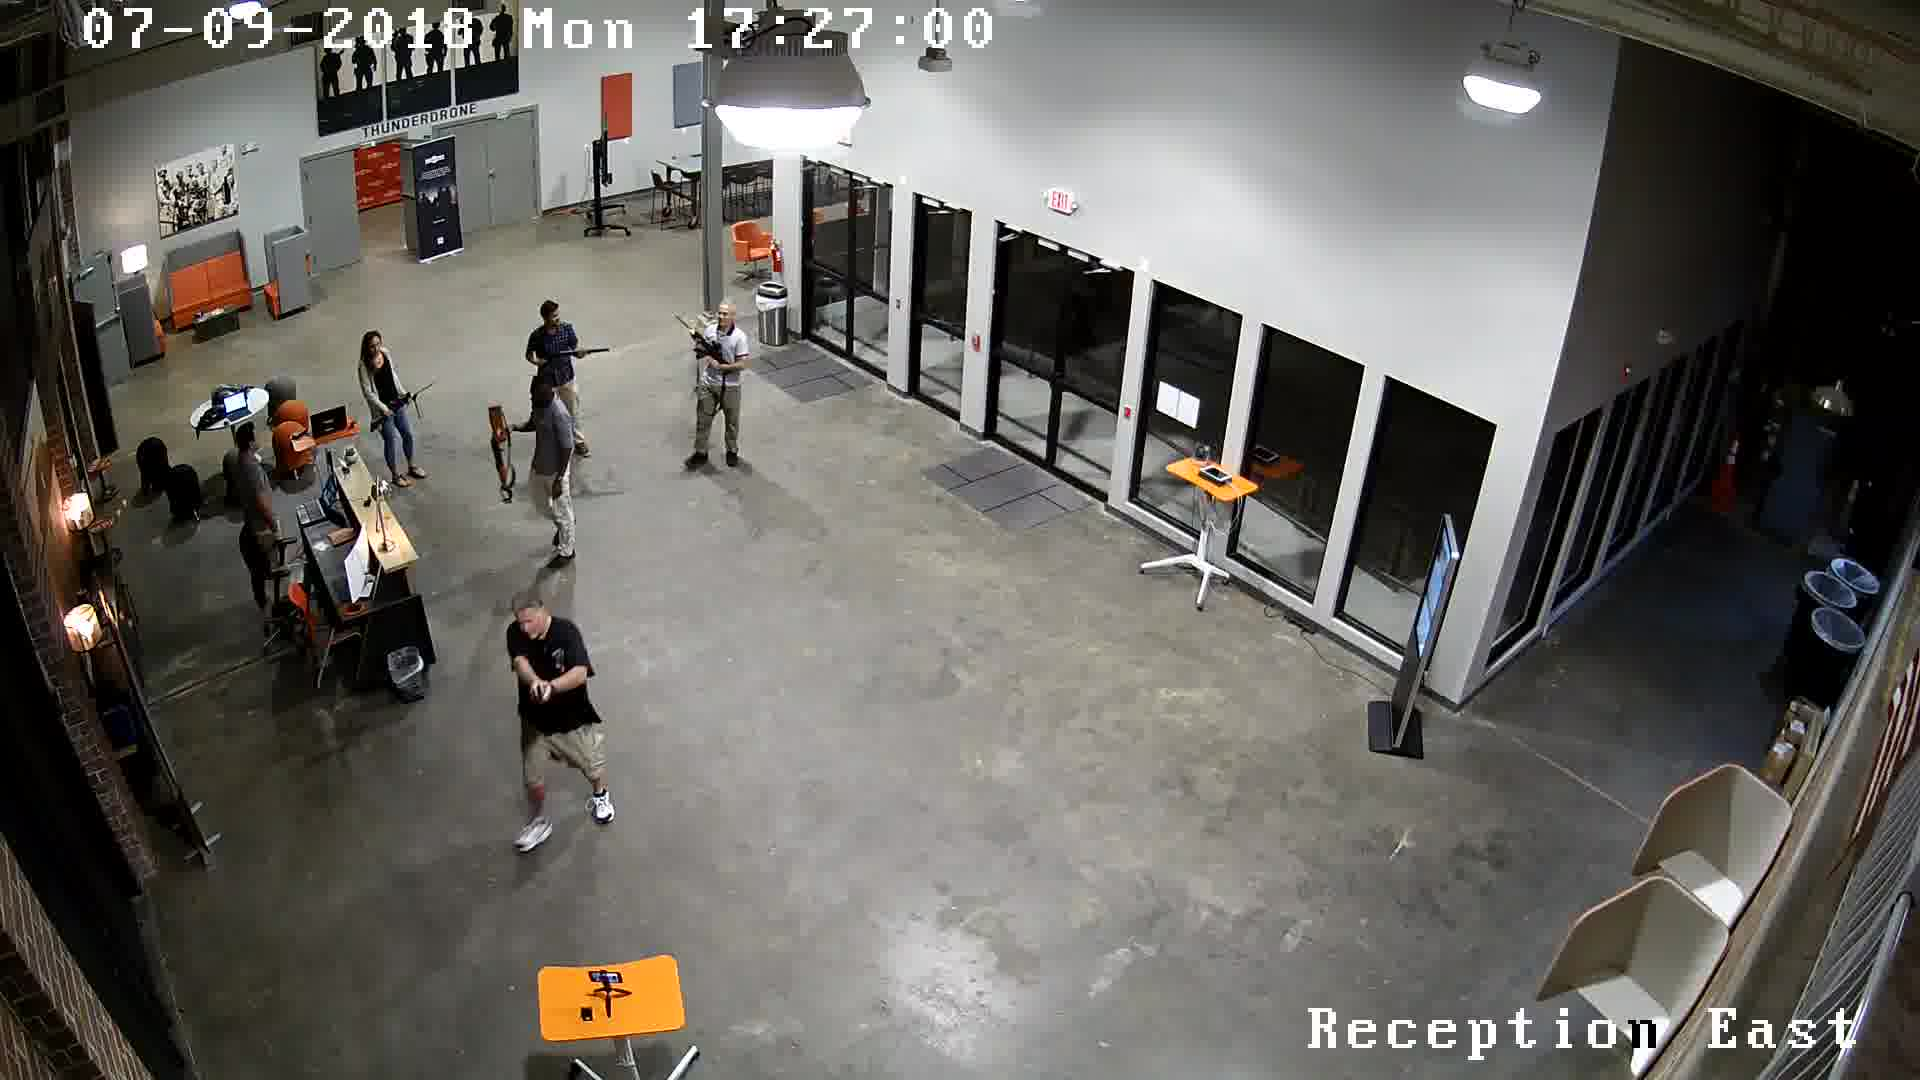pistol: (524, 676, 562, 716)
